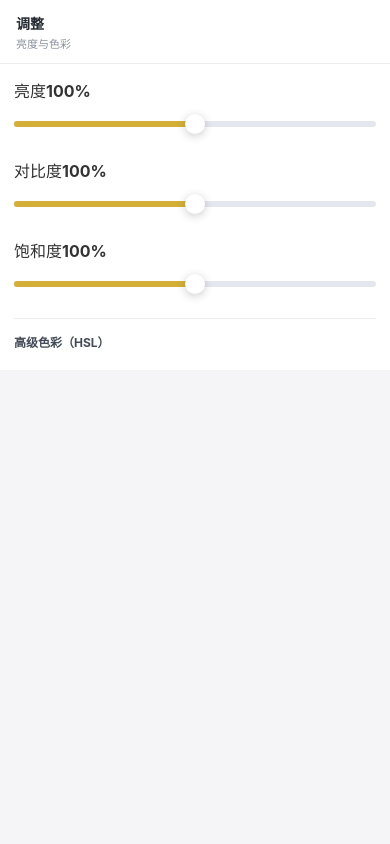
Test case: ImageEditInspector › 高级色彩默认折叠并可展开
The width and height of the screenshot is (390, 844).
Click the button with class "advanced-section__toggle". click: point(62, 342)
box: [14, 323, 376, 356]
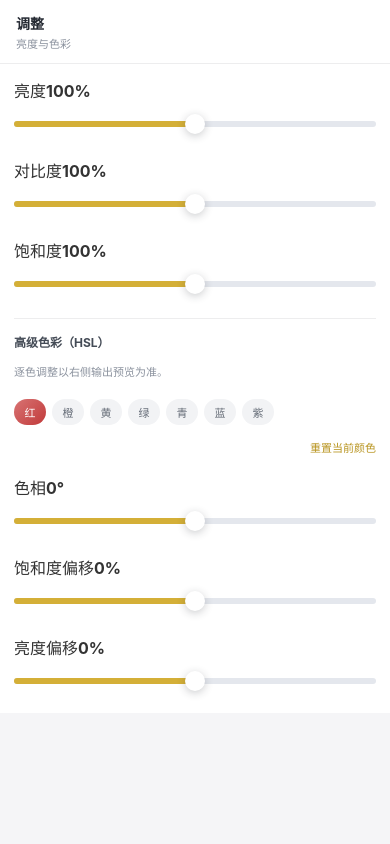
Now the element with class "hsl-tabs" is shown, box [14, 398, 274, 424]
